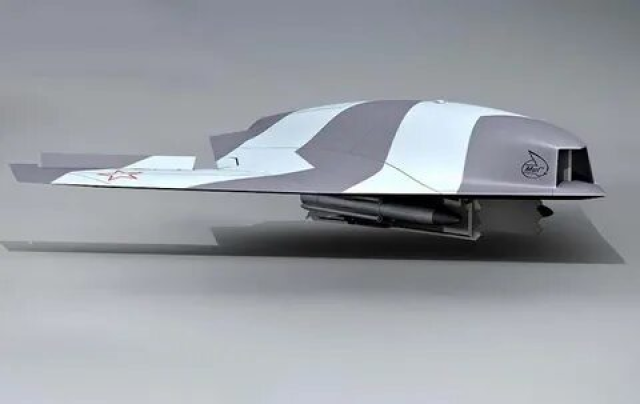military drone: (6, 98, 605, 242)
